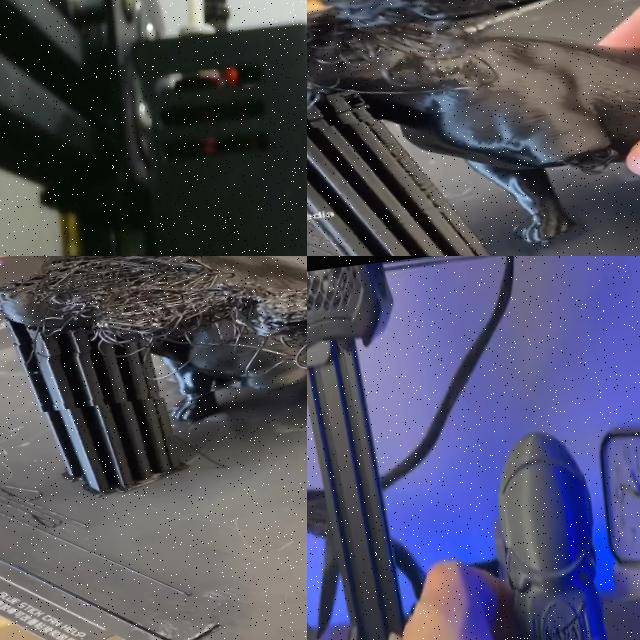spaghetti: (0, 256, 307, 417), (307, 0, 514, 141)
